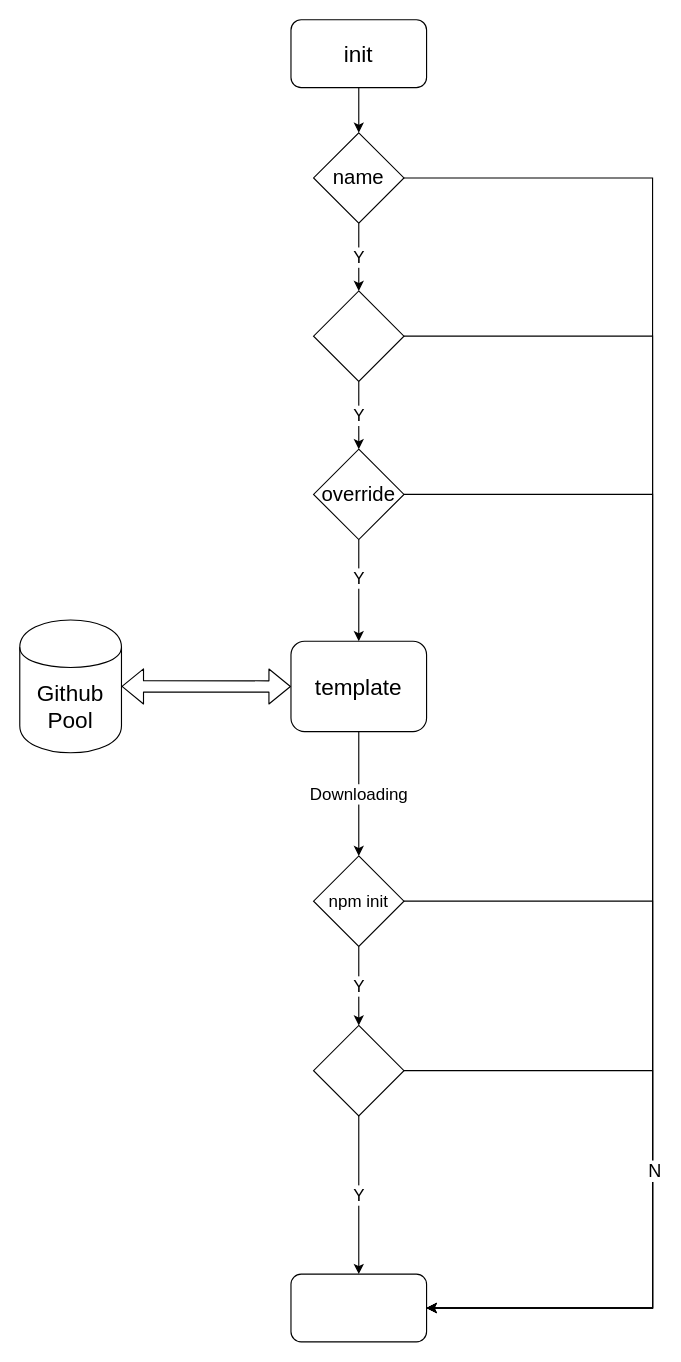
This 681x1362 diagram has some shape labels left out. The box of each missing label's shape, as (x1, y1, x2, y2) in pixels:
end: (290, 1273, 427, 1342)
isExist: (312, 290, 404, 381)
npm install: (312, 1024, 404, 1116)
